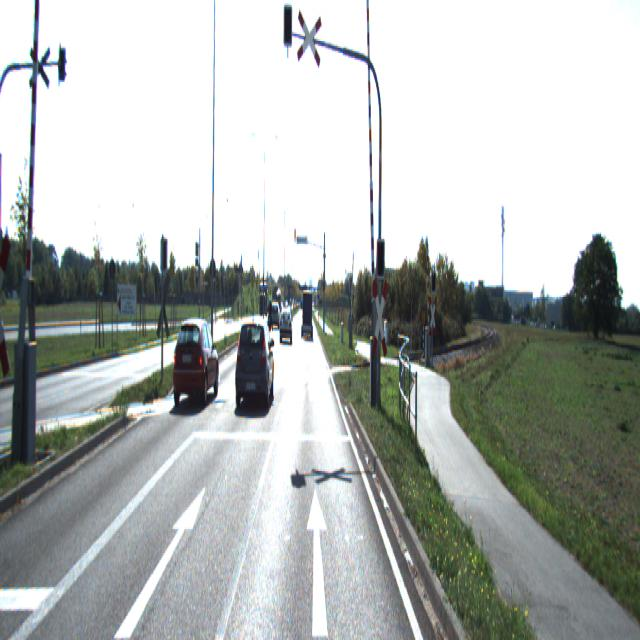Car: (171, 319, 220, 410), (234, 310, 276, 412), (302, 289, 313, 337), (280, 309, 292, 341), (271, 302, 279, 329)
